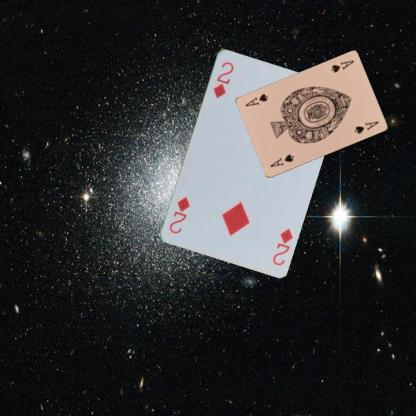2d: (210, 59, 235, 99), (270, 226, 294, 266)
As: (267, 152, 295, 169), (328, 58, 356, 74)
